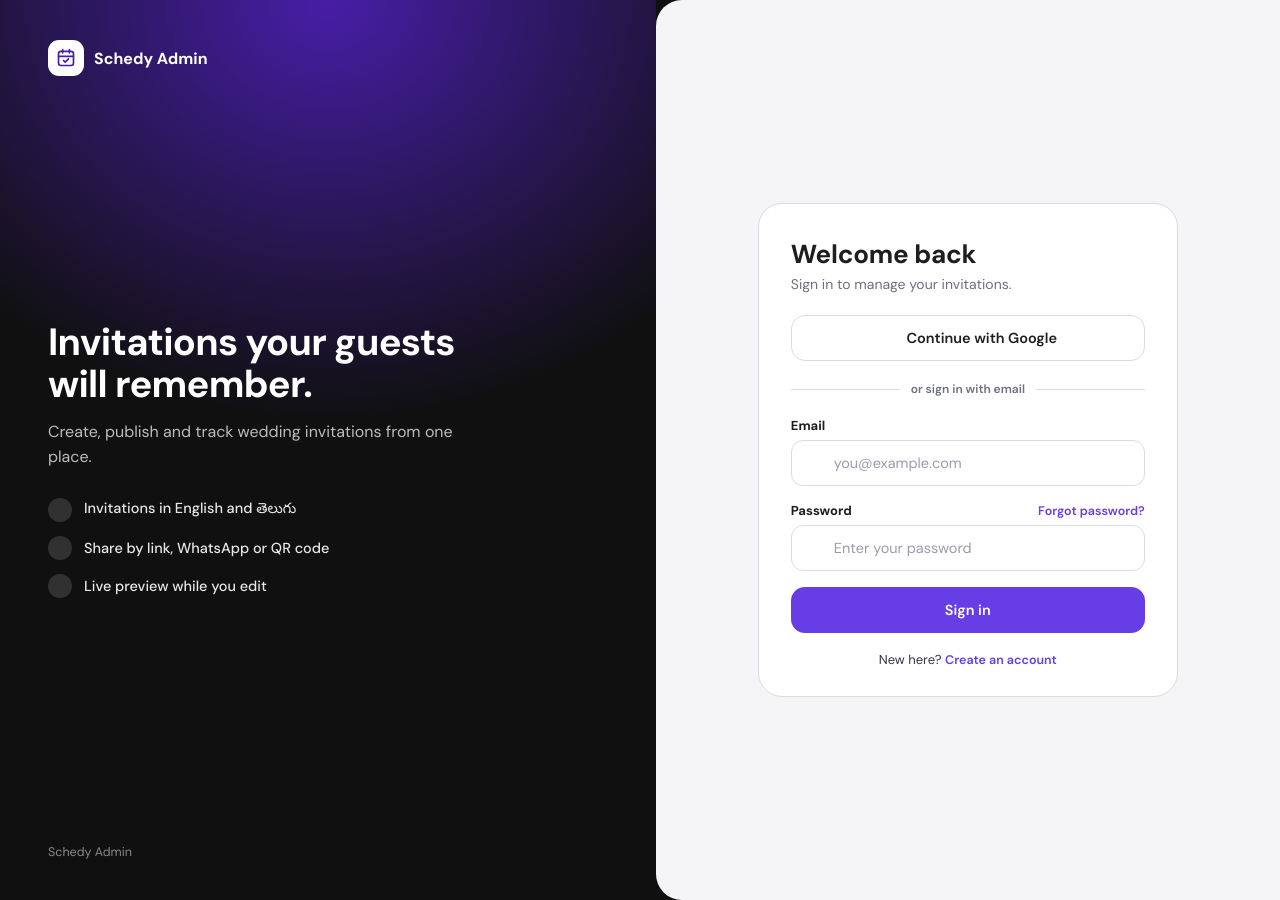
Test: Login: sign up › switches to the sign-up form and back
The image size is (1280, 900).
Click the button "Create an account" at (1001, 660), box x1=945 y1=652 x2=1057 y2=668
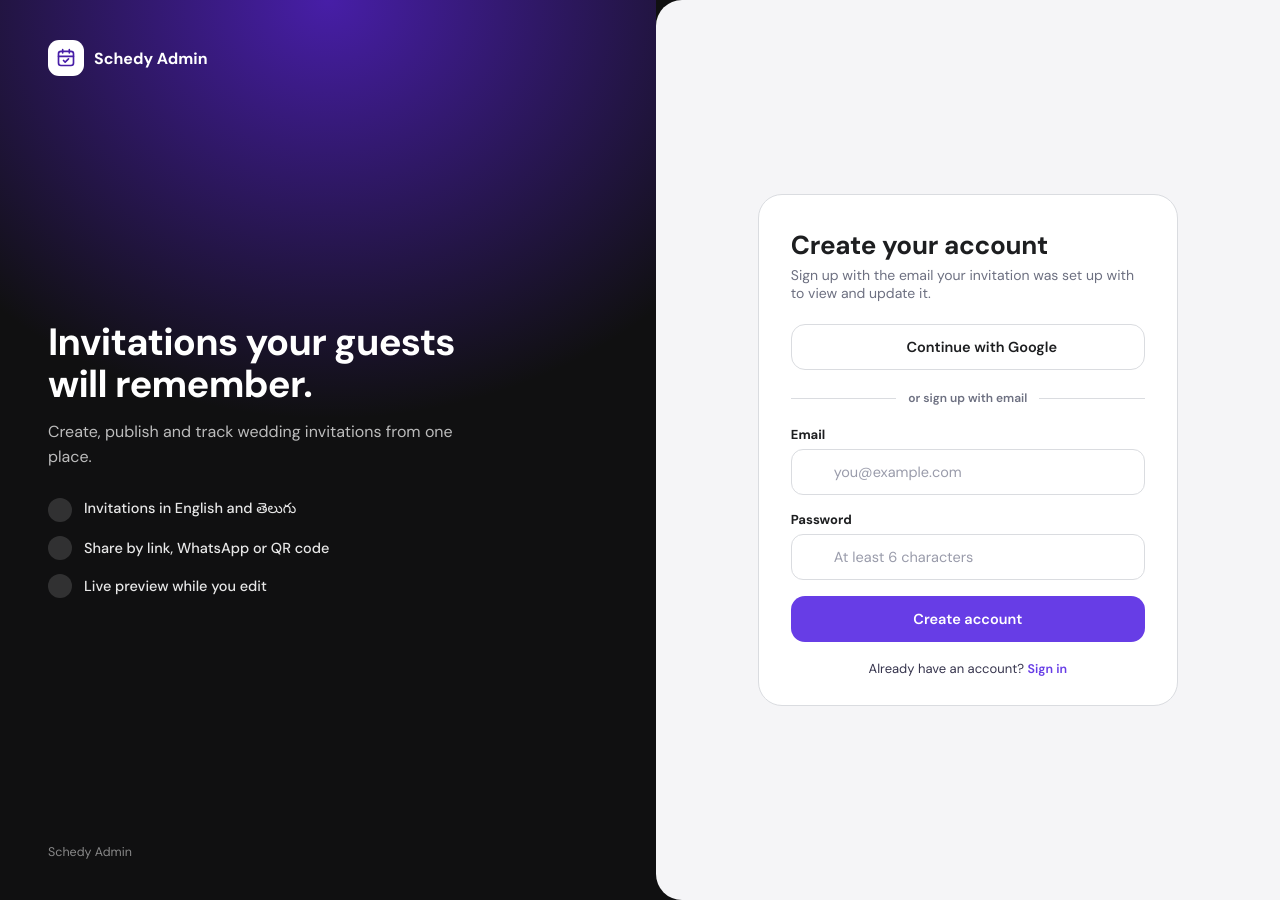
Expected: the button "Create account" is shown, x1=791 y1=596 x2=1145 y2=642
Expected: the text "Create your account" is shown, x1=791 y1=228 x2=1048 y2=262
Expected: the text "Forgot password?" is gone
Click the button "Sign in" at (1047, 669), box x1=1028 y1=661 x2=1067 y2=677
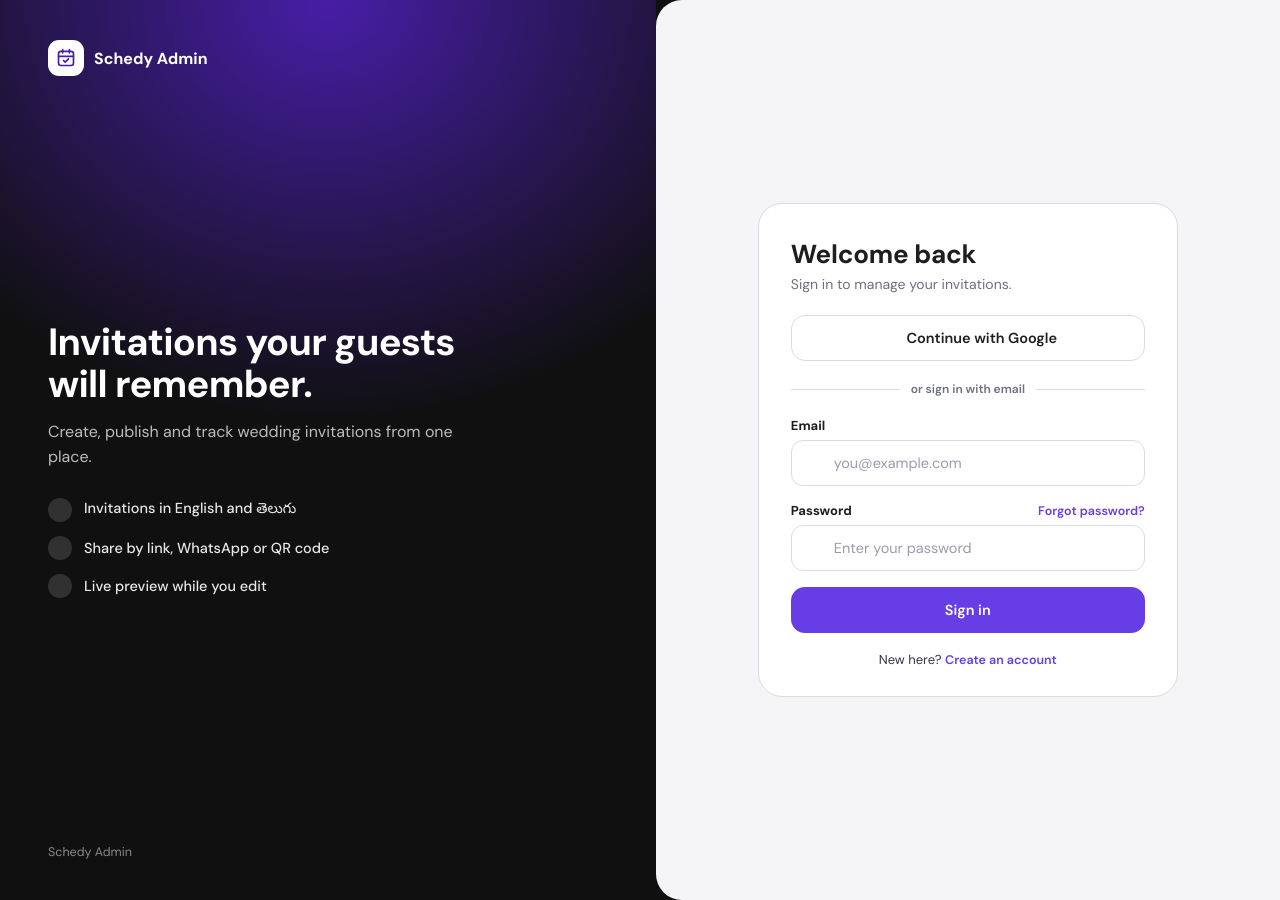
Expected: the text "Welcome back" is shown, x1=791 y1=236 x2=976 y2=270
